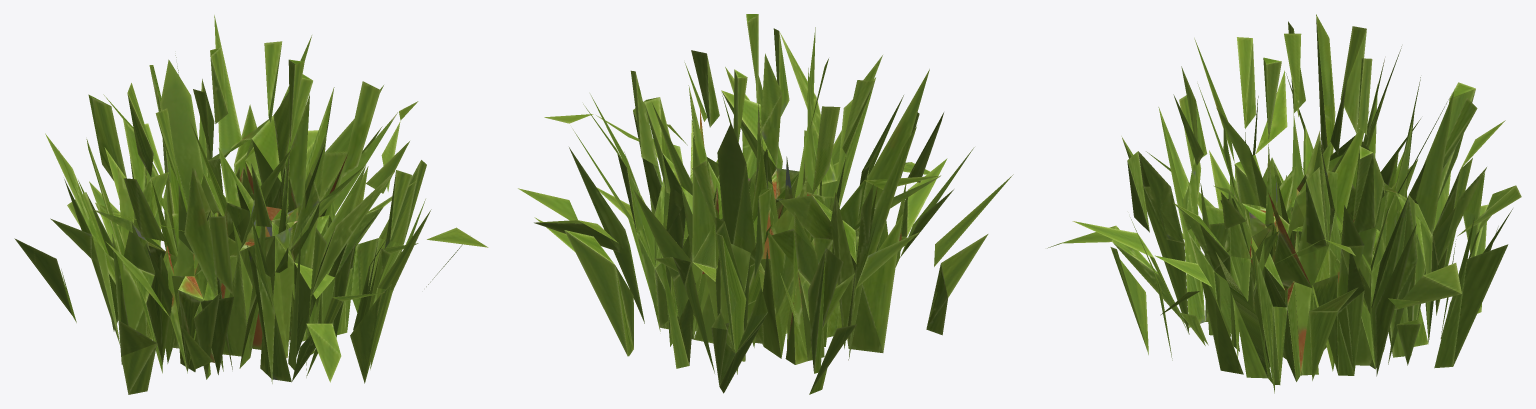
The model's file is reeds.glb.
The picture shows the model from 3 angles, left to right: view 1: azimuth 30°, elevation 25°; view 2: azimuth 150°, elevation 25°; view 3: azimuth 270°, elevation 25°; orthographic projection. The views are drawn at different scales.
Bounding box in the file's own units: 1.5 × 1.09 × 1.63.
Materials: 1 (1 with a texture image).
